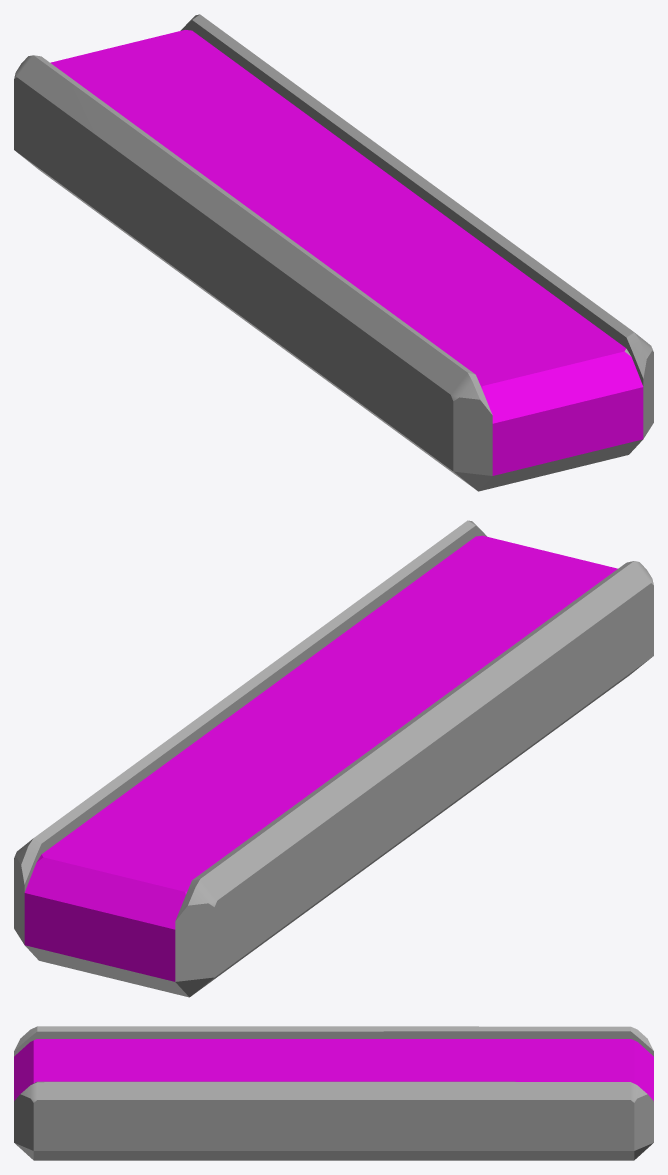
Rendered from platform.fbx.
The picture shows the model from 3 angles, top to bottom: view 1: azimuth 30°, elevation 25°; view 2: azimuth 150°, elevation 25°; view 3: azimuth 270°, elevation 25°; orthographic projection. The views are drawn at different scales.
Visible parts, largest first — view 1: pCube1; view 2: pCube1; view 3: pCube1.
Part boxes in pixels (x1,y1,x2,y2): pCube1: (14, 14, 653, 491); pCube1: (14, 520, 653, 997); pCube1: (14, 1026, 653, 1160).
Bounding box in the file's own units: 166 × 94.21 × 673.
